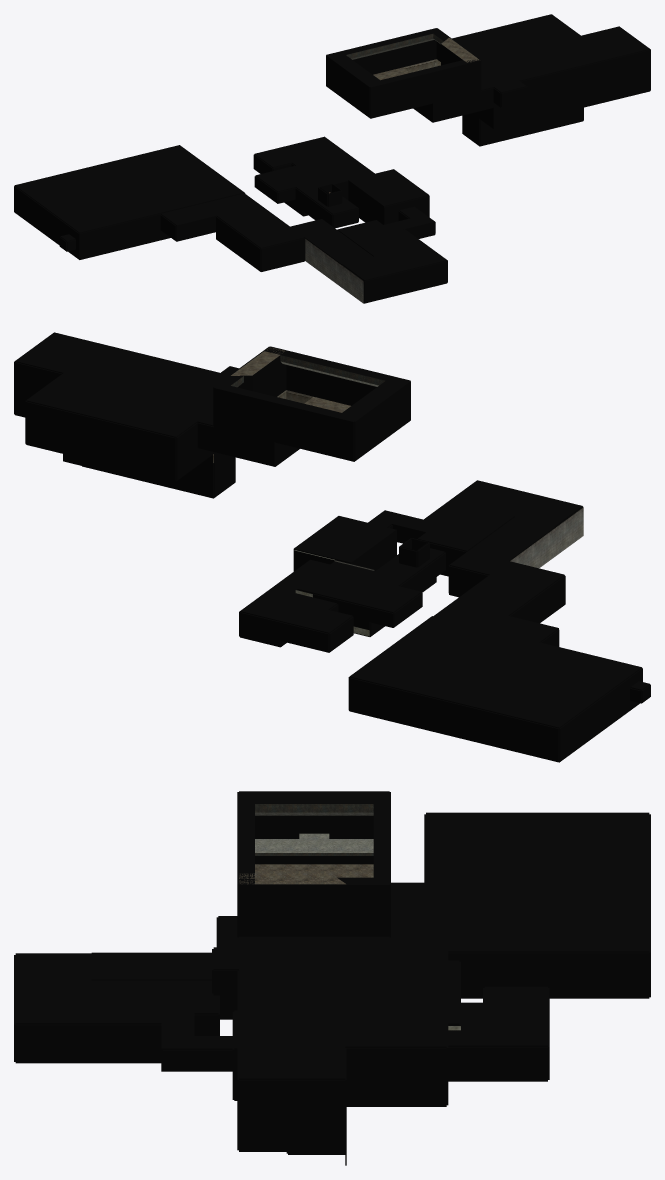
File: bhop_spookyland_d.fbx
3 views of the same model, one above another, from view 1: azimuth 30°, elevation 25°; view 2: azimuth 150°, elevation 25°; view 3: azimuth 270°, elevation 25° (orthographic). The views are drawn at different scales.
Parts seen in each view (by area): view 1: worldbrushes, entity_func_detail_44; view 2: worldbrushes, entity_func_detail_44; view 3: worldbrushes, entity_func_detail_44.
Boxes of the visible parts, box(x1,y1,x2,y2) form: worldbrushes: box(14, 14, 650, 303); entity_func_detail_44: box(327, 28, 479, 86); worldbrushes: box(14, 332, 650, 762); entity_func_detail_44: box(215, 347, 409, 421); worldbrushes: box(14, 791, 650, 1165); entity_func_detail_44: box(239, 792, 389, 884).
Bounding box in the file's own units: 21184 × 5952 × 12864.
